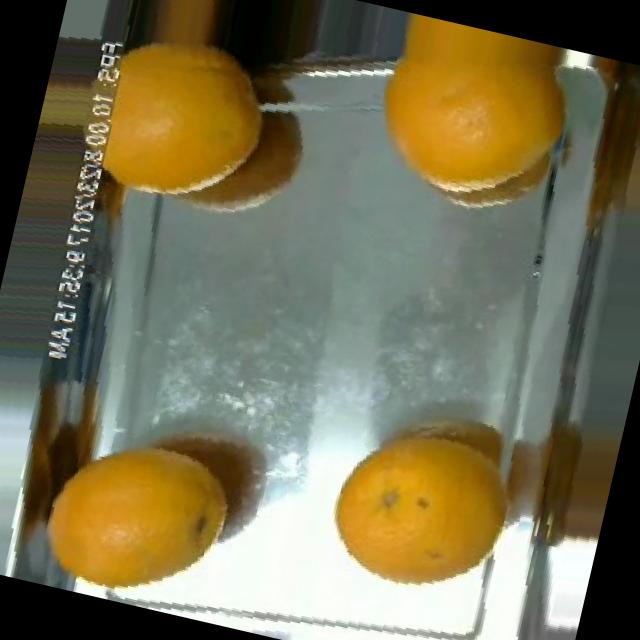Fruit: (13, 398, 255, 624), (74, 2, 302, 240), (498, 390, 628, 573)
